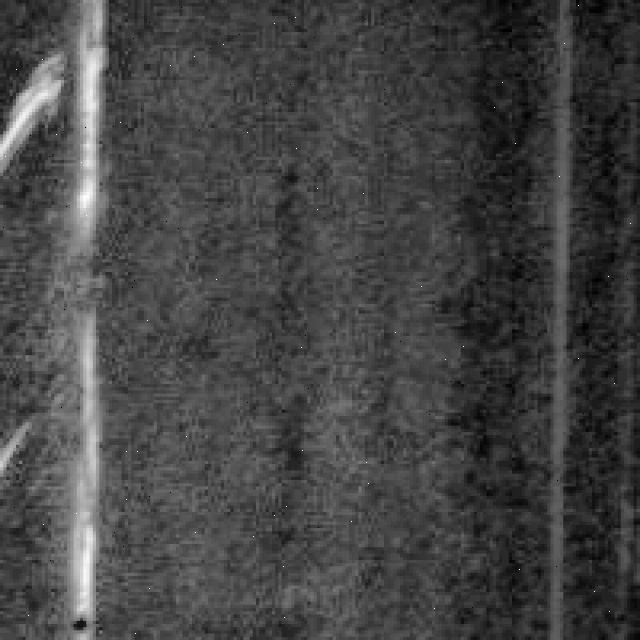Inclusion: (58, 317, 102, 627), (64, 0, 106, 240), (0, 41, 70, 160)
